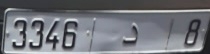3: (28, 16, 46, 50), (11, 16, 27, 50)
4: (45, 18, 61, 50)
6: (60, 18, 80, 51)
8: (183, 18, 203, 47)
d: (120, 20, 140, 47)
